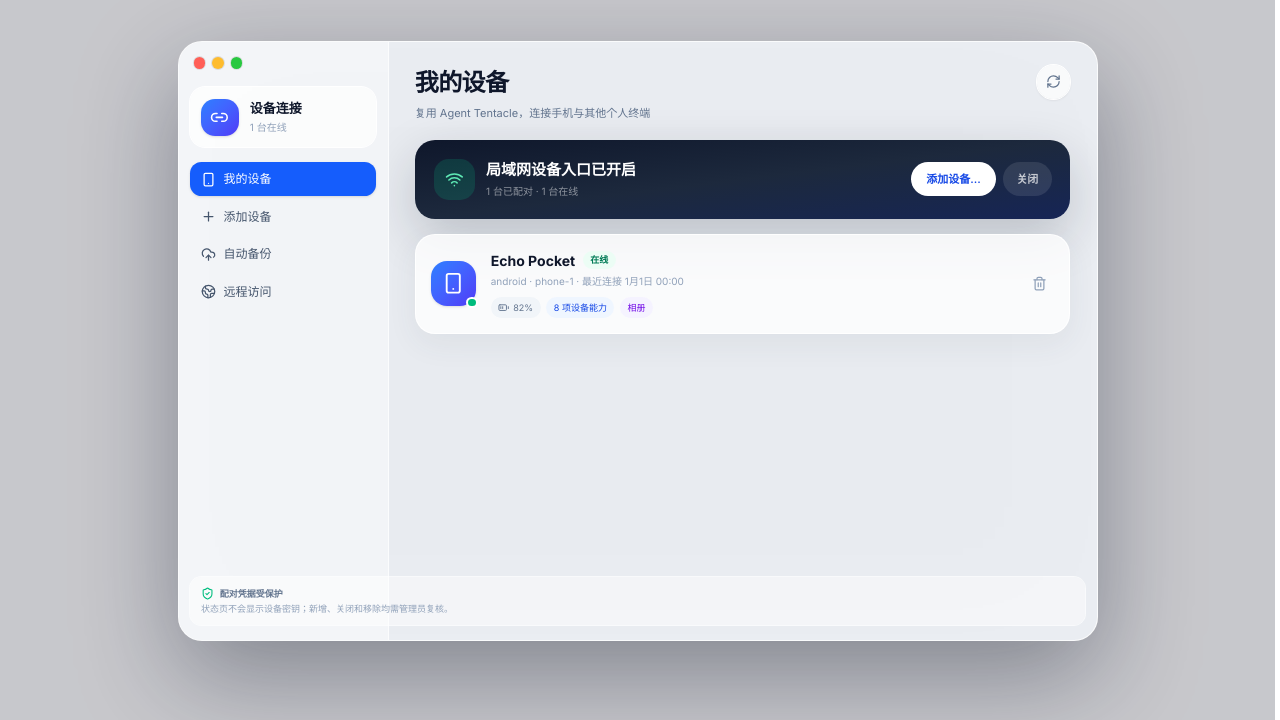
Test: device link panel › requires password approval before revealing a pairing link
This screenshot has width=1280, height=720.
expect the text "Echo Pocket" is shown: met, box x1=491 y1=250 x2=575 y2=270
Step 1. Click the button "添加设备" → (283, 217), box x1=190 y1=200 x2=376 y2=234
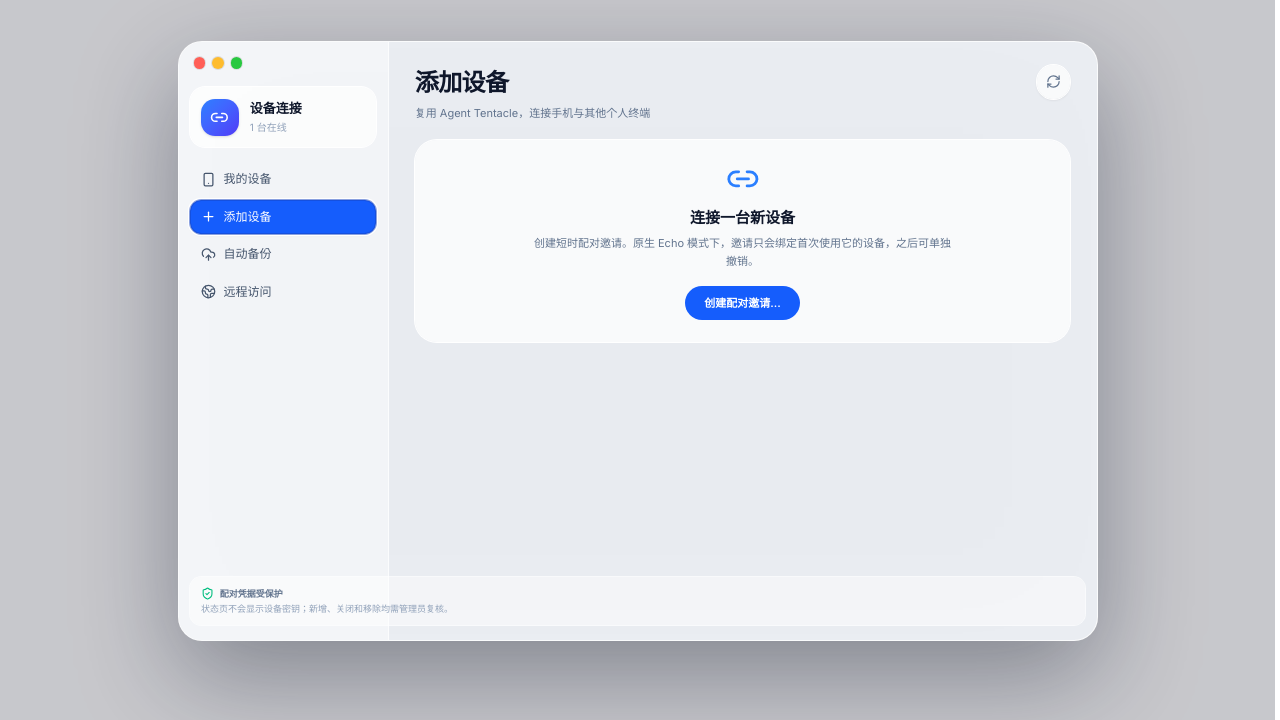
Step 2. Click the button "创建配对邀请…" → (742, 303), box x1=686 y1=286 x2=800 y2=320
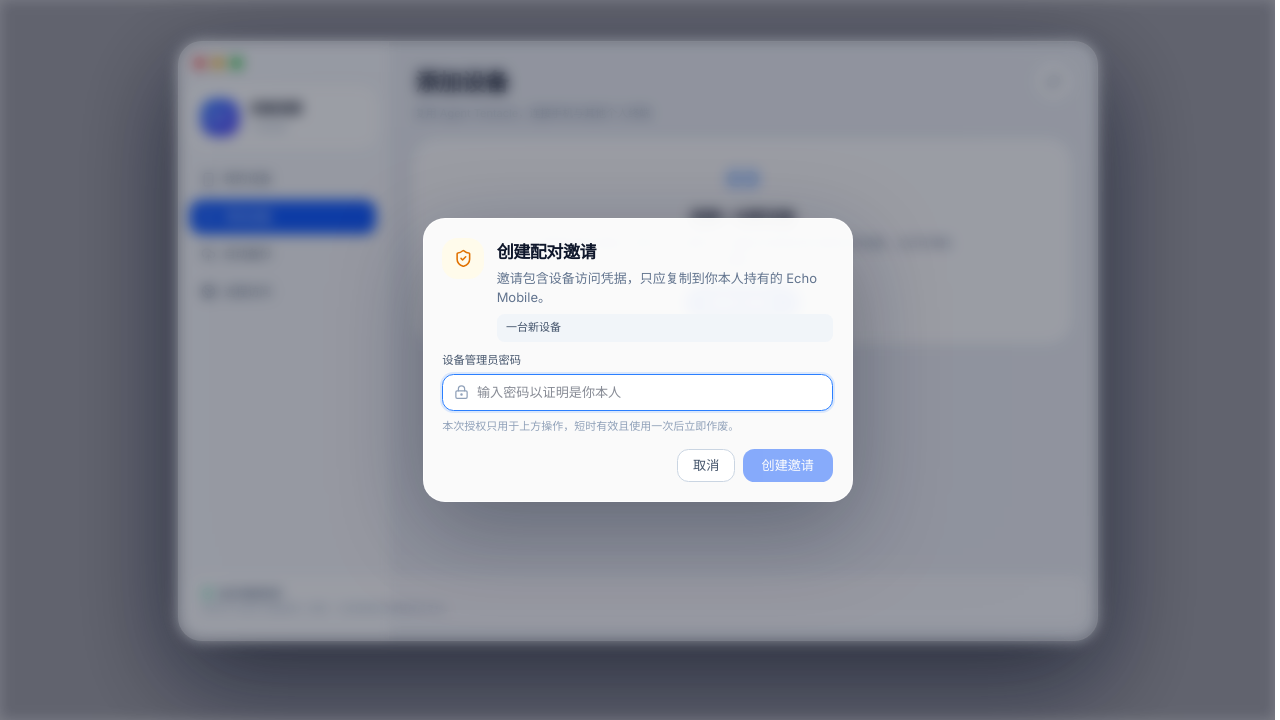
expect the dialog that starts with "创建配对邀请" is shown: met, box x1=422 y1=218 x2=852 y2=502
Step 3. Type "password" into the password field labelled "设备管理员密码" → (638, 392), box x1=442 y1=374 x2=833 y2=411
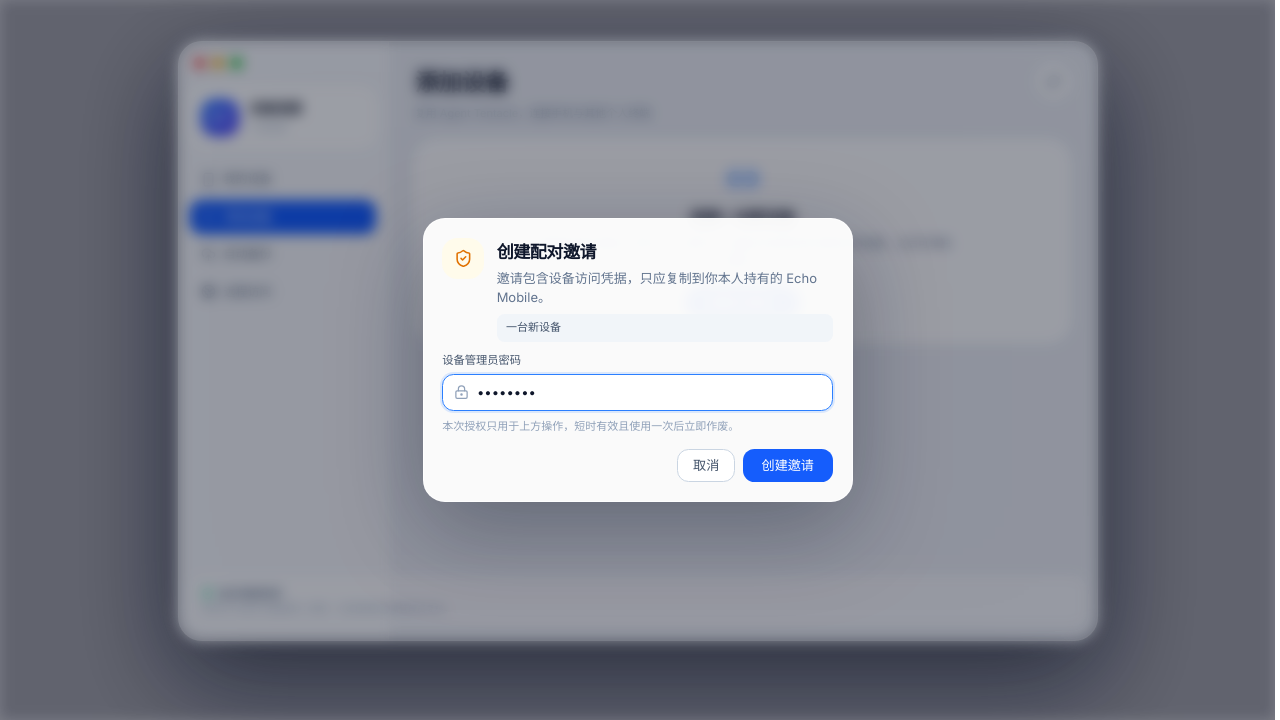
Step 4. Click the button "创建邀请" → (788, 465), box x1=743 y1=448 x2=833 y2=482
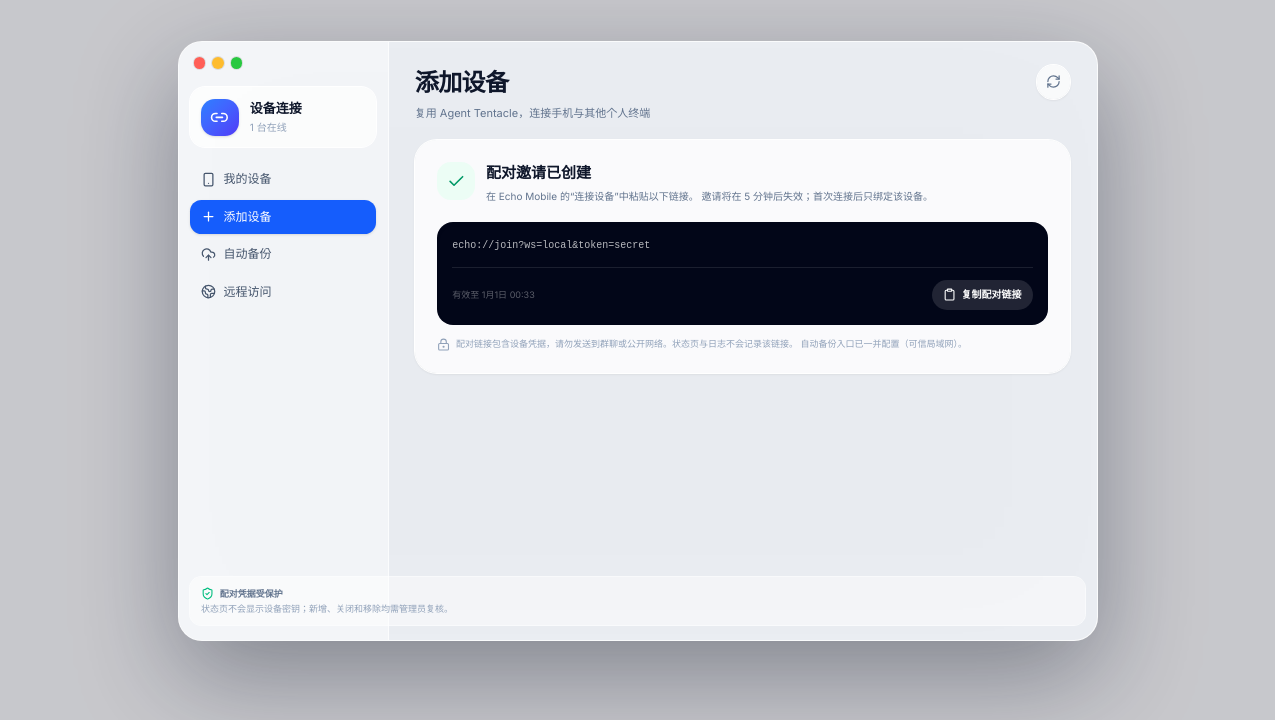
expect the text "echo://join?ws=local&token=secret" is shown: met, box x1=452 y1=240 x2=650 y2=251
expect the text "配对链接包含设备凭据，请勿发送到群聊或公开网络。状态页与日志不会记录该链接。 自动备份入口已一并配置（可信局域网）。" is shown: met, box x1=456 y1=336 x2=967 y2=351
